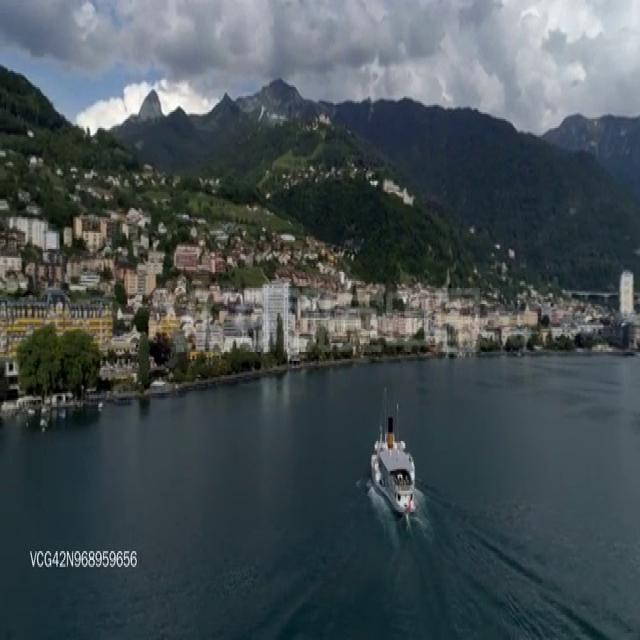passenger ship: (370, 394, 416, 518)
